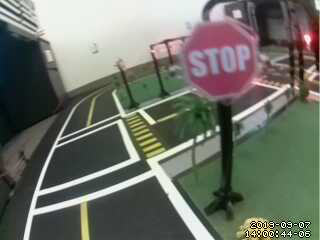Stop_Sign: (183, 17, 264, 93)
